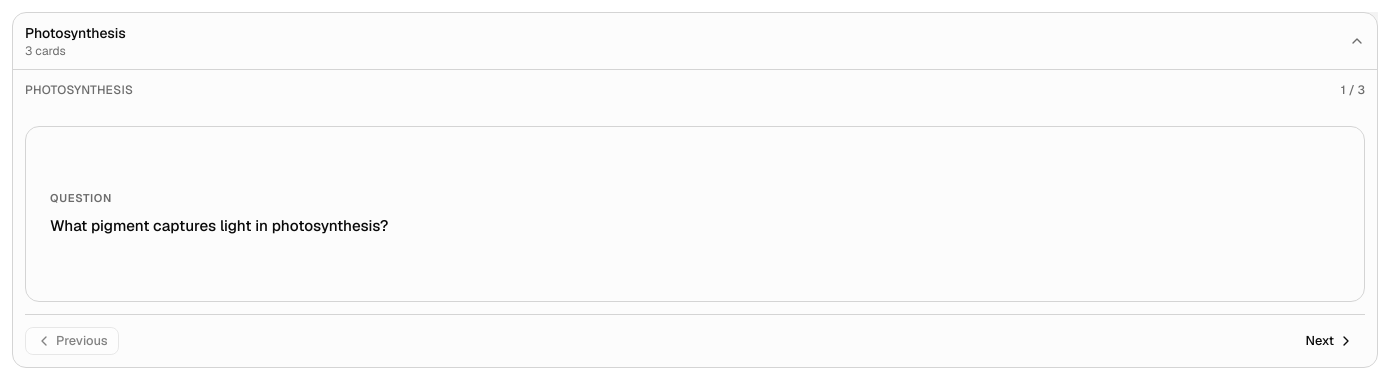
Test: FlashcardsPanel single set › Next advances to the following card and resets the flip
The image size is (1390, 385).
Step 1. Click the button with aria-label "Flip flashcard" → (695, 214), box [25,126,1365,302]
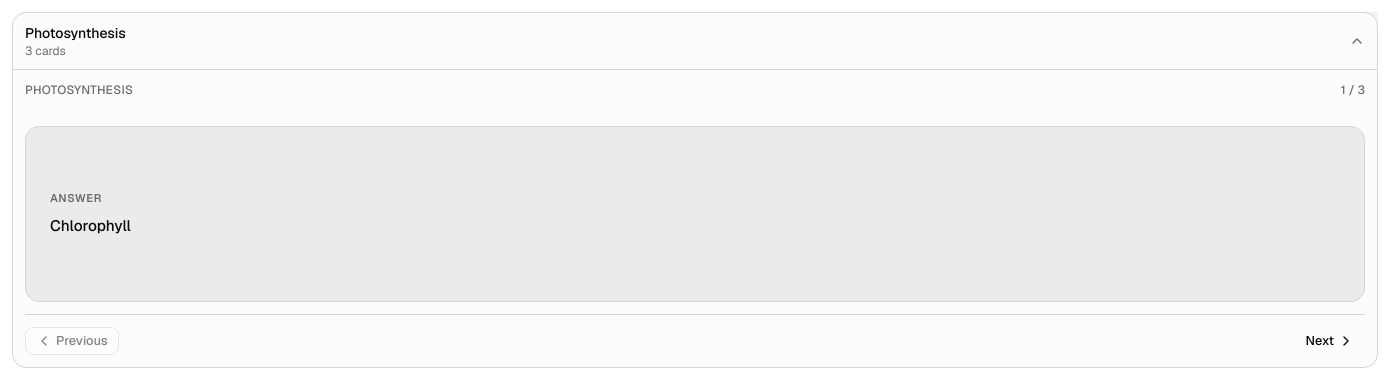
Step 2. Click the button with aria-label "Next card" → (1330, 341), box [1294,327,1365,355]
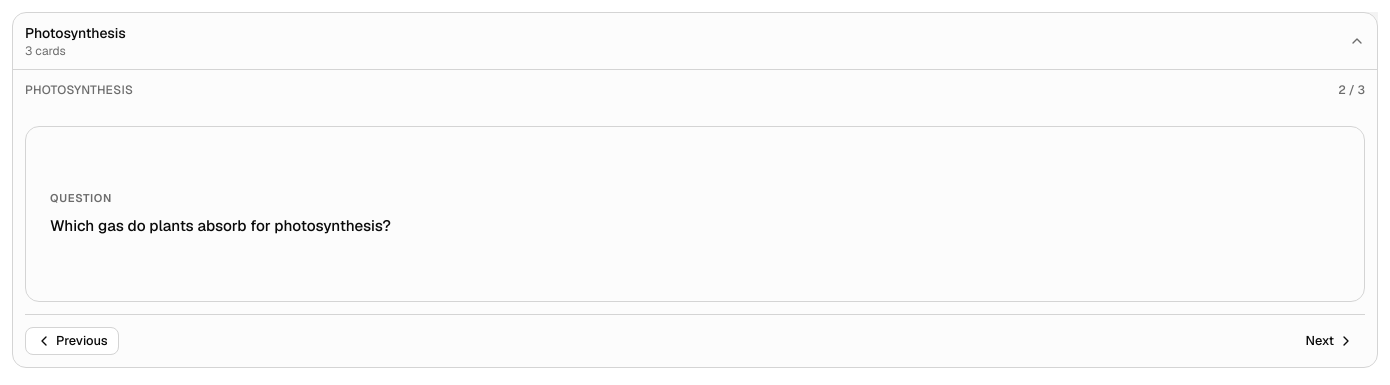
expect the text "2 / 3" is shown: met, box [1338,82,1365,98]
expect the text "Which gas do plants absorb for photosynthesis?" is shown: met, box [50,216,391,235]
